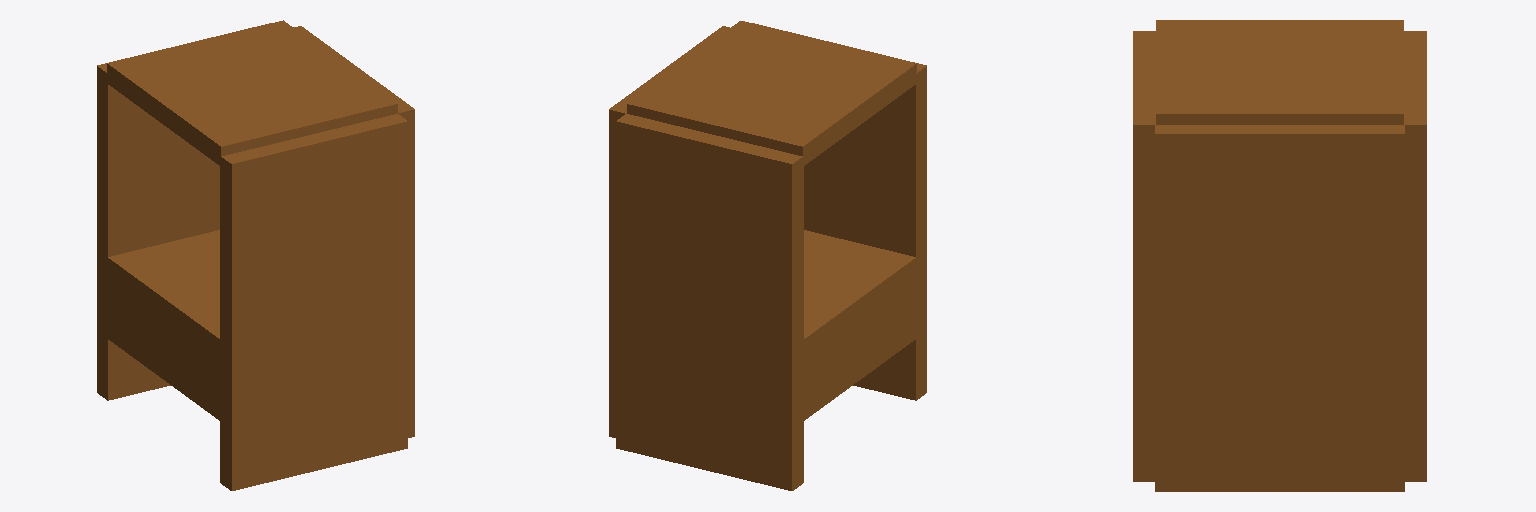
robot.urdf — dummy:
<?xml version="1.0"?>
<robot name="dummy">
  <link name="bottom_wall">
    <visual>
      <origin xyz="0.0 0.0 0.08040999933226751" rpy="0 0 0"/>
      <geometry>
        <mesh filename="bottom_wall.obj" scale="1 1 1"/>
      </geometry>
      <material name="brown">
        <color rgba="0.6 0.4 0.2 1.0"/>
      </material>
    </visual>
    <collision>
      <origin xyz="0.0 0.0 0.08040999933226751" rpy="0 0 0"/>
      <geometry>
        <mesh filename="bottom_wall.obj" scale="1 1 1"/>
      </geometry>
    </collision>
  </link>

  <link name="left_wall">
    <visual>
      <origin xyz="0.0 -0.14482200051886482 0.0" rpy="0 0 0"/>
      <geometry>
        <mesh filename="vertical_wall.obj" scale="1 1 1"/>
      </geometry>
      <material name="brown">
        <color rgba="0.6 0.4 0.2 1.0"/>
      </material>
    </visual>
    <collision>
      <origin xyz="0.0 -0.14482200051886482 0.0" rpy="0 0 0"/>
      <geometry>
        <mesh filename="vertical_wall.obj" scale="1 1 1"/>
      </geometry>
    </collision>
  </link>

  <link name="right_wall">
    <visual>
      <origin xyz="0.0 0.14482200051886482 0.0" rpy="0 0 0"/>
      <geometry>
        <mesh filename="vertical_wall.obj" scale="1 1 1"/>
      </geometry>
      <material name="brown">
        <color rgba="0.6 0.4 0.2 1.0"/>
      </material>
    </visual>
    <collision>
      <origin xyz="0.0 0.14482200051886482 0.0" rpy="0 0 0"/>
      <geometry>
        <mesh filename="vertical_wall.obj" scale="1 1 1"/>
      </geometry>
    </collision>
  </link>

  <link name="back_wall">
    <visual>
      <origin xyz="0.13045365826217528 0.0 0.0" rpy="0 0 0"/>
      <geometry>
        <mesh filename="back_wall.obj" scale="1 1 1"/>
      </geometry>
      <material name="brown">
        <color rgba="0.6 0.4 0.2 1.0"/>
      </material>
    </visual>
    <collision>
      <origin xyz="0.13045365826217528 0.0 0.0" rpy="0 0 0"/>
      <geometry>
        <mesh filename="back_wall.obj" scale="1 1 1"/>
      </geometry>
    </collision>
  </link>

  <link name="top_wall">
    <visual>
      <origin xyz="0.0 0.0 0.40882999196816244" rpy="0 0 0"/>
      <geometry>
        <mesh filename="top_wall.obj" scale="1 1 1"/>
      </geometry>
      <material name="brown">
        <color rgba="0.6 0.4 0.2 1.0"/>
      </material>
    </visual>
    <collision>
      <origin xyz="0.0 0.0 0.40882999196816244" rpy="0 0 0"/>
      <geometry>
        <mesh filename="top_wall.obj" scale="1 1 1"/>
      </geometry>
    </collision>
  </link>

  <joint name="left_wall_joint" type="fixed">
    <origin xyz="0 0 0" rpy="0 0 0"/>
    <parent link="bottom_wall"/>
    <child link="left_wall"/>
  </joint>

  <joint name="right_wall_joint" type="fixed">
    <origin xyz="0 0 0" rpy="0 0 0"/>
    <parent link="bottom_wall"/>
    <child link="right_wall"/>
  </joint>

  <joint name="back_wall_joint" type="fixed">
    <origin xyz="0 0 0" rpy="0 0 0"/>
    <parent link="bottom_wall"/>
    <child link="back_wall"/>
  </joint>

  <joint name="top_wall_joint" type="fixed">
    <origin xyz="0 0 0" rpy="0 0 0"/>
    <parent link="bottom_wall"/>
    <child link="top_wall"/>
  </joint>

</robot>

--- Facts derived from the render (not from the file) ---
Views: 3 orthographic renders of the robot side by side, from view 1: azimuth 30°, elevation 25°; view 2: azimuth 150°, elevation 25°; view 3: azimuth 270°, elevation 25°.
Model dummy with 5 links and 4 joints (4 fixed), rooted at bottom_wall, posed all joints at 0.
Visible links, largest first — view 1: left_wall, top_wall, right_wall, bottom_wall, back_wall; view 2: right_wall, top_wall, left_wall, bottom_wall, back_wall; view 3: back_wall, top_wall, left_wall, right_wall.
Link boxes in pixels (x1,y1,x2,y2): left_wall: (220, 114, 407, 490); top_wall: (107, 20, 397, 165); right_wall: (97, 23, 270, 400); bottom_wall: (107, 230, 220, 420); back_wall: (293, 26, 414, 437); right_wall: (616, 114, 803, 490); top_wall: (627, 21, 916, 165); left_wall: (753, 23, 926, 400); bottom_wall: (803, 230, 916, 421); back_wall: (609, 26, 729, 437); back_wall: (1155, 124, 1404, 491); top_wall: (1156, 20, 1403, 124); left_wall: (1133, 31, 1155, 481); right_wall: (1404, 31, 1426, 481).
Bounding box of the posed robot: 0.2624 × 0.3157 × 0.435 m (x, y, z).
5 mesh visuals loaded from 4 distinct referenced files (4 OBJ).
